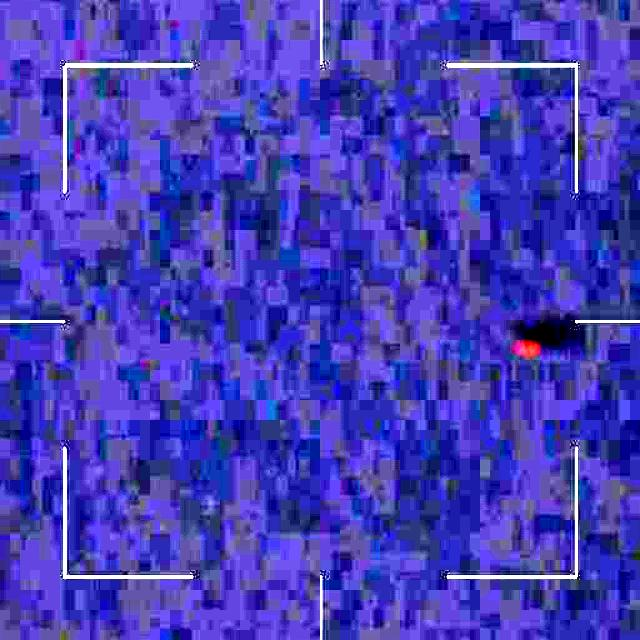bird: (509, 321, 546, 369)
